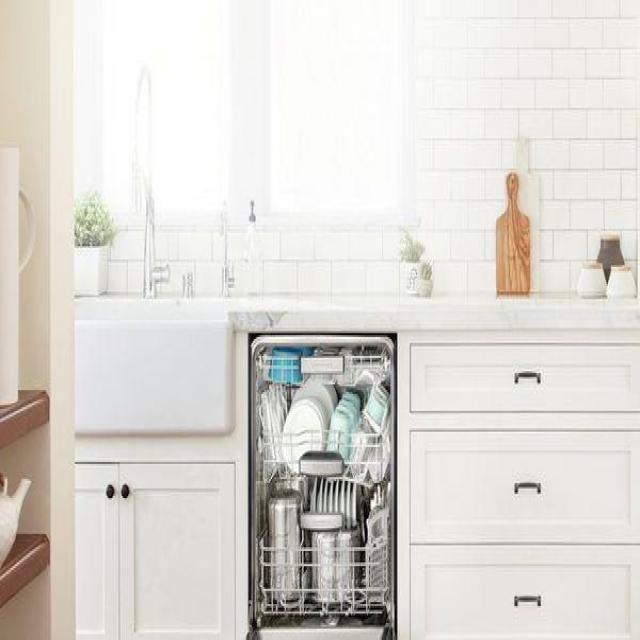dishwasher: (240, 322, 400, 640)
